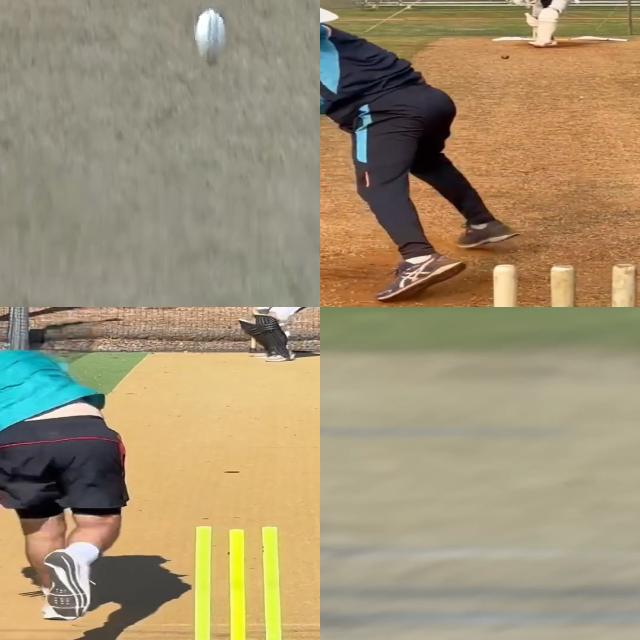Cricket ball: (192, 6, 228, 70), (501, 54, 510, 60)
Stumps: (175, 523, 305, 640), (484, 259, 640, 307)
